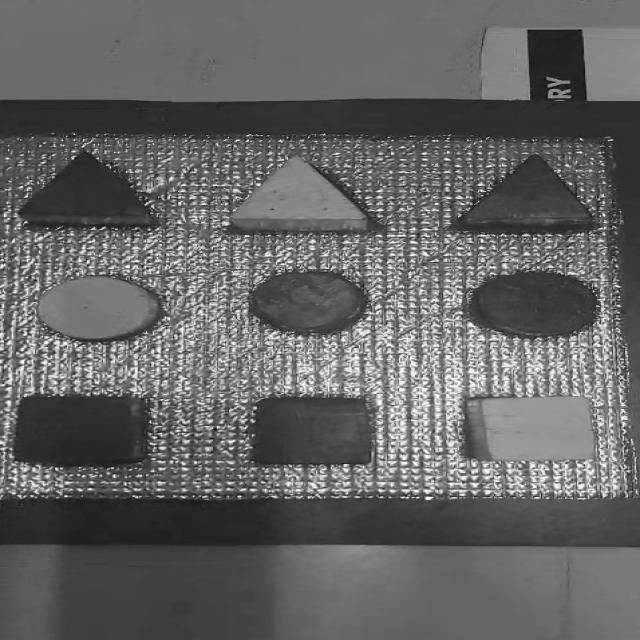bcircle: (464, 268, 604, 338)
bcube: (244, 395, 378, 468)
btriangle: (19, 154, 152, 234)
rcircle: (241, 268, 373, 338)
rcube: (14, 392, 144, 468)
rtriangle: (458, 156, 597, 230)
wb: (0, 132, 632, 502)
ycircle: (36, 274, 162, 343)
ycube: (454, 392, 610, 471)
ytriangle: (227, 158, 374, 235)
